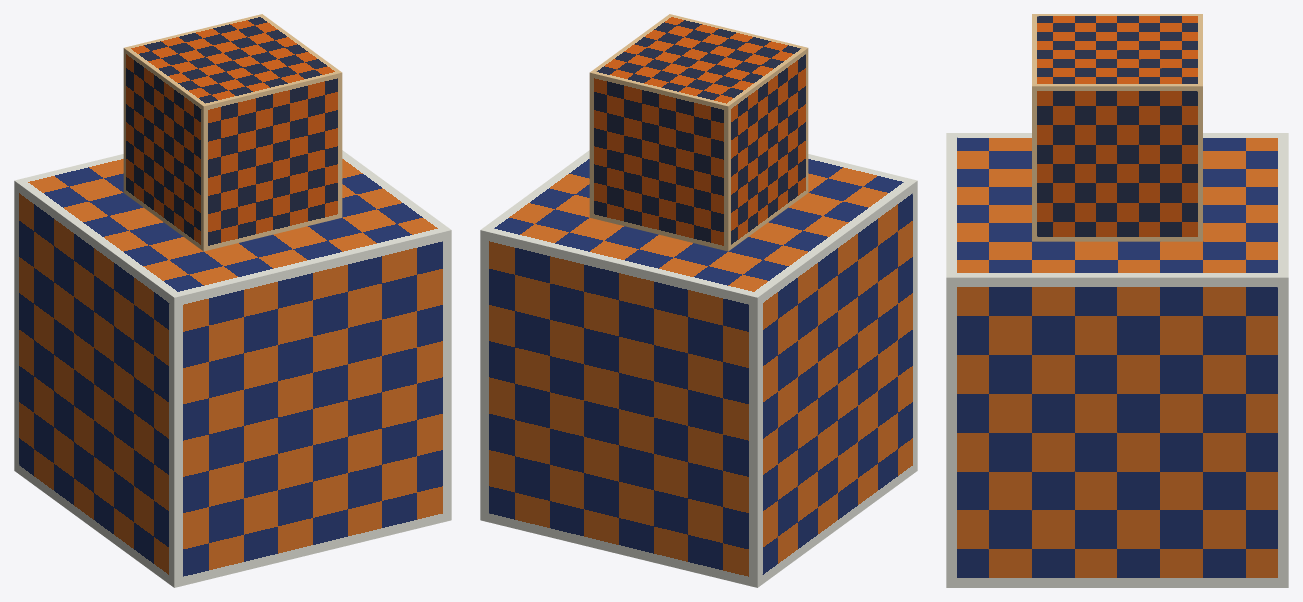
3 renders of one model, left to right at view 1: azimuth 30°, elevation 25°; view 2: azimuth 150°, elevation 25°; view 3: azimuth 270°, elevation 25°, orthographic. The views are drawn at different scales.
Parts seen in each view (by area): view 1: corps, tete; view 2: corps, tete; view 3: corps, tete.
Boxes of the visible parts, x1=… form: corps: x1=14, y1=150, x2=451, y2=587; tete: x1=123, y1=14, x2=342, y2=251; corps: x1=480, y1=150, x2=917, y2=587; tete: x1=589, y1=14, x2=808, y2=251; corps: x1=946, y1=133, x2=1288, y2=587; tete: x1=1032, y1=14, x2=1202, y2=241.
Bounding box in the file's own units: 1 × 1.5 × 1.
Materials: 2 (2 with a texture image).
